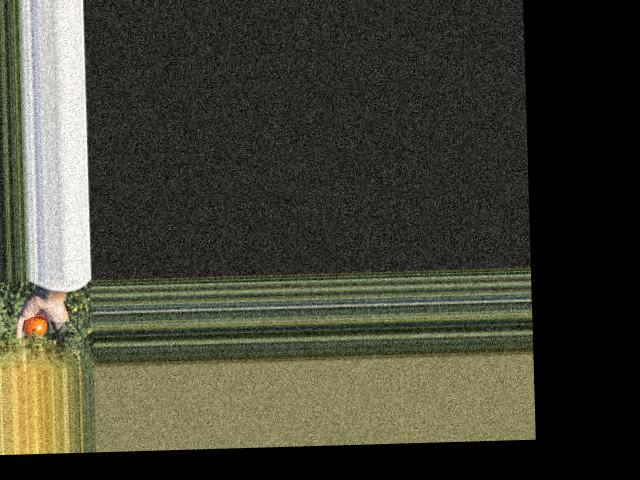tomato: (22, 316, 46, 338)
